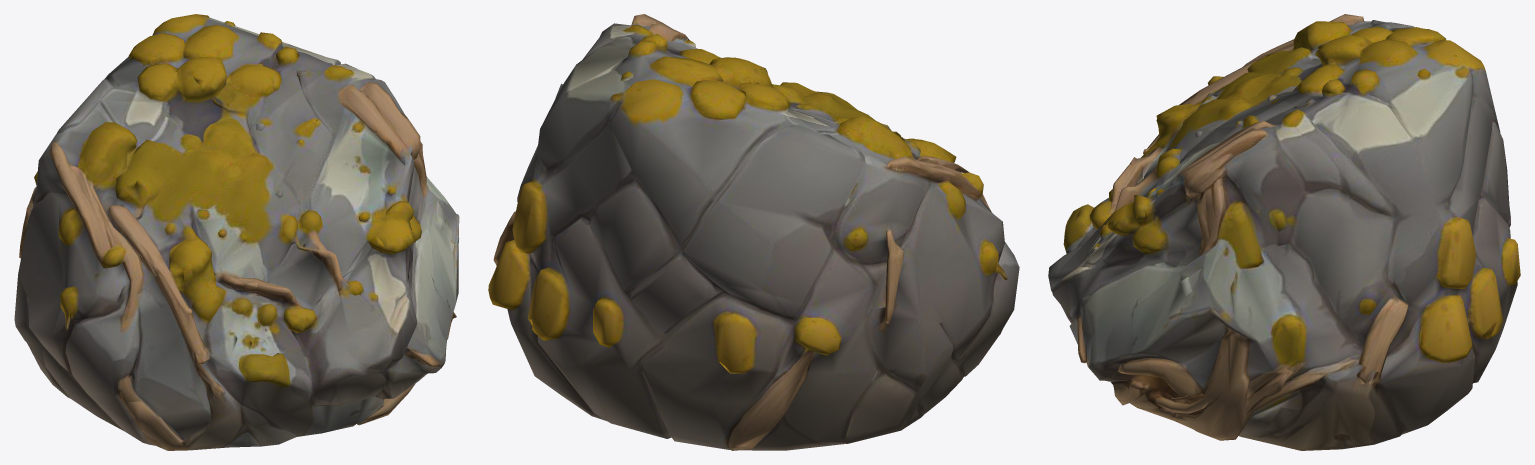
Rendered from sc_stone.glb.
3 views of the same model, side by side, from view 1: azimuth 30°, elevation 25°; view 2: azimuth 150°, elevation 25°; view 3: azimuth 270°, elevation 25° (orthographic). The views are drawn at different scales.
Visible parts, largest first — view 1: sc_stone; view 2: sc_stone; view 3: sc_stone.
Part boxes in pixels (x1,y1,x2,y2): sc_stone: (14,14,459,450); sc_stone: (488,14,1019,450); sc_stone: (1048,14,1520,450).
Bounding box in the file's own units: 1.2 × 0.9088 × 1.15.
Materials: 1 (1 with a texture image).
